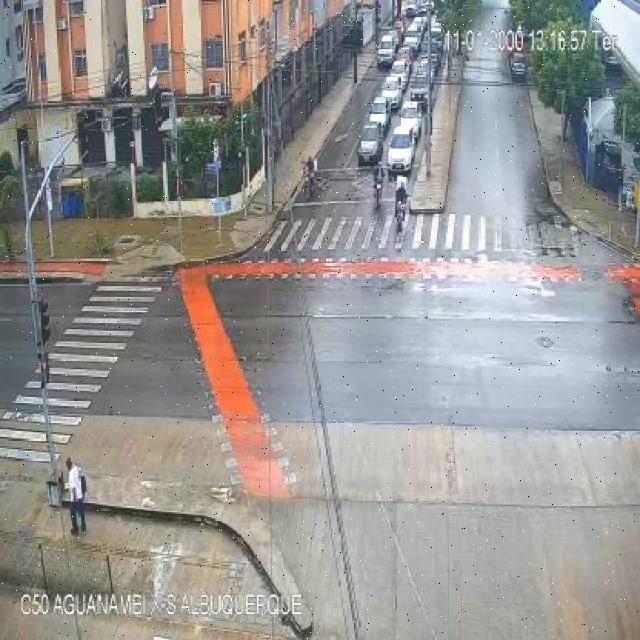Car: (386, 125, 418, 177), (353, 121, 383, 170), (401, 102, 424, 144), (367, 98, 390, 131), (376, 34, 396, 70), (380, 76, 402, 108), (390, 60, 410, 87), (411, 74, 430, 102), (509, 53, 528, 78)
Cycle: (393, 180, 412, 232), (372, 162, 385, 214)
